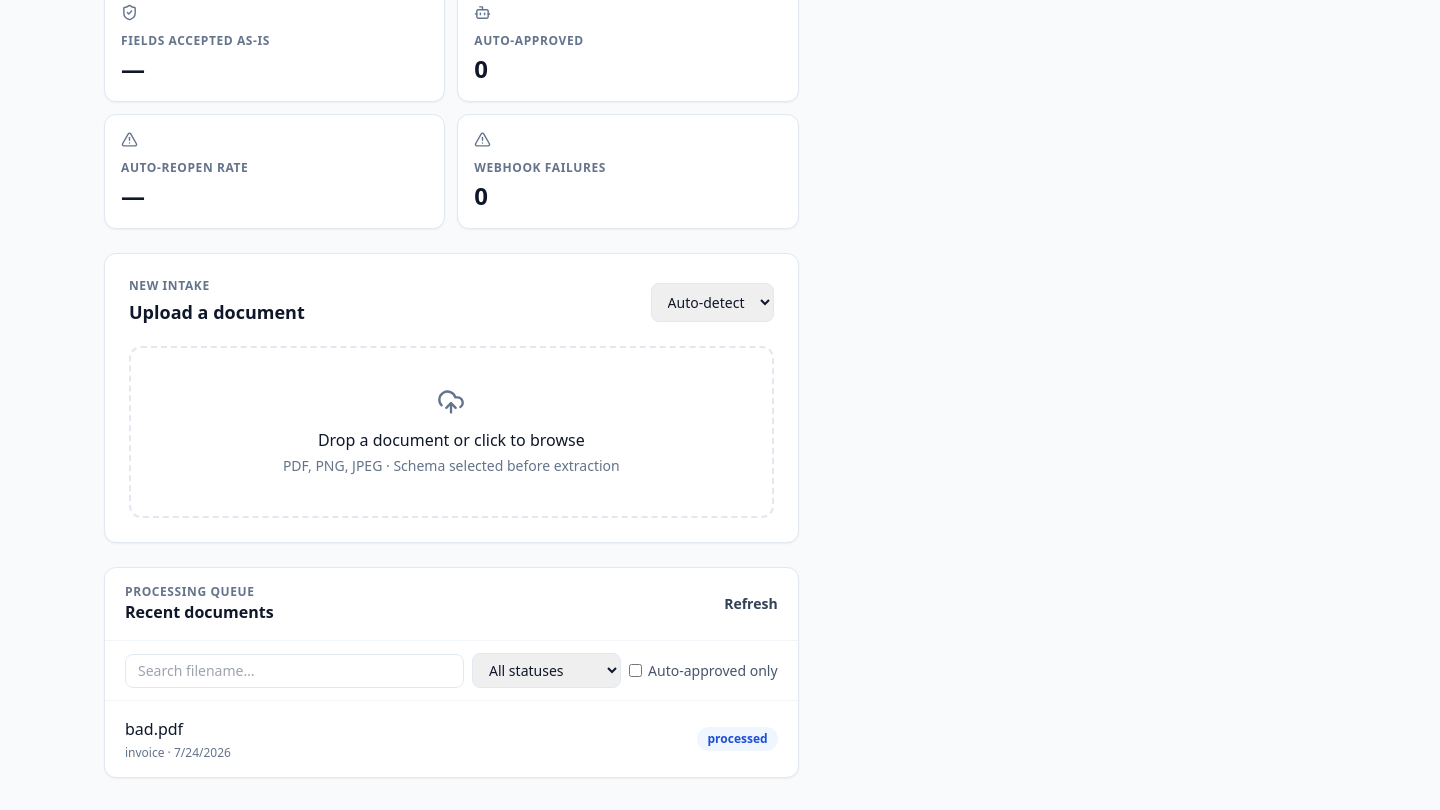
Test: a failed review action recovers the panel › re-enables the button, shows the error, and keeps the panel open
(page scrolled)
Click the text "bad.pdf". click: coordinates (154, 729)
box: [125,718,183,740]
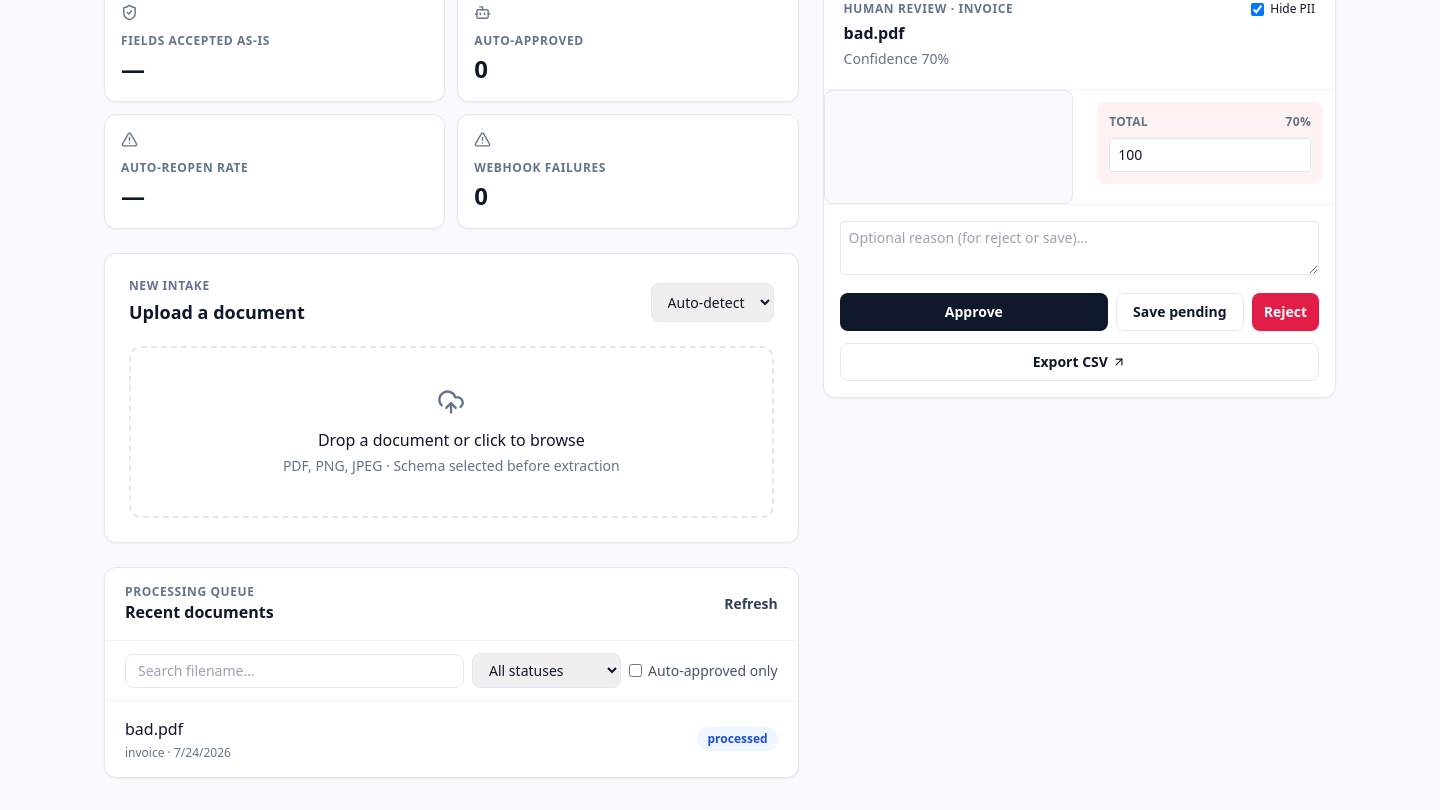
Click the button "Approve". click: coordinates (974, 312)
box: [840,293,1108,331]
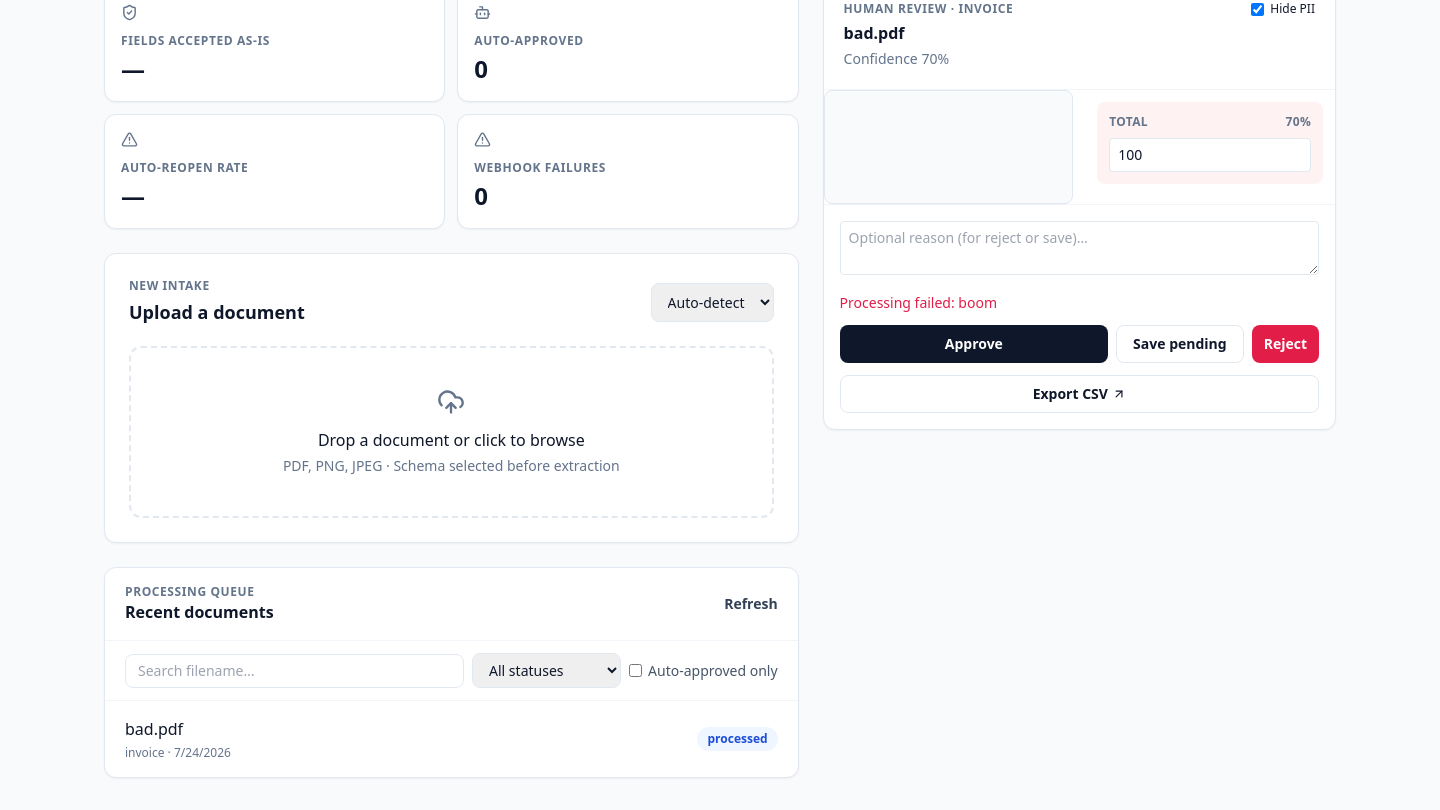
Expected: the button "Approve" is shown, [840,325,1108,363]
Expected: the field showing "100" is shown, [1109,138,1311,172]
Expected: the text "Processing failed: boom" is shown, [840,293,997,312]
